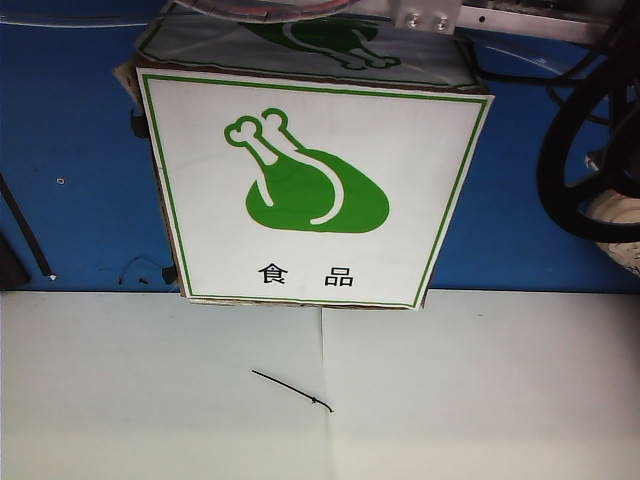Cube_food: (204, 104, 398, 296)
